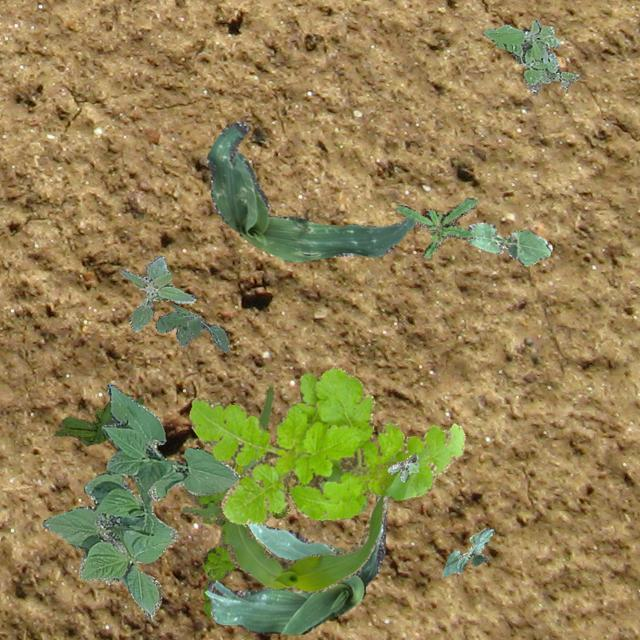crop: (41, 382, 240, 620), (180, 384, 386, 592), (205, 120, 414, 260), (204, 494, 388, 632), (465, 222, 551, 264), (441, 526, 494, 576)
weed: (188, 366, 464, 524), (182, 484, 288, 616), (482, 18, 578, 92), (120, 254, 194, 330), (395, 196, 477, 258), (54, 396, 142, 444), (154, 303, 228, 352), (386, 452, 416, 481)
